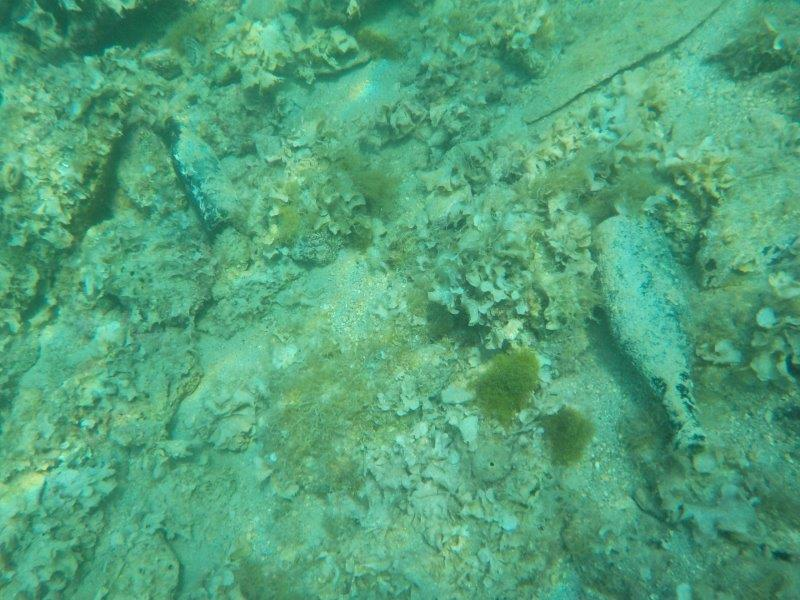bottle: (581, 211, 720, 458), (162, 109, 245, 231)
